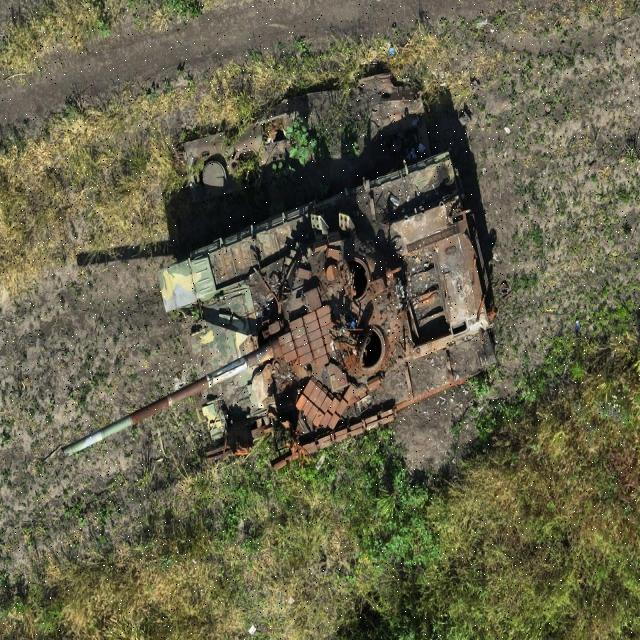Destroyed: (62, 128, 500, 503)
